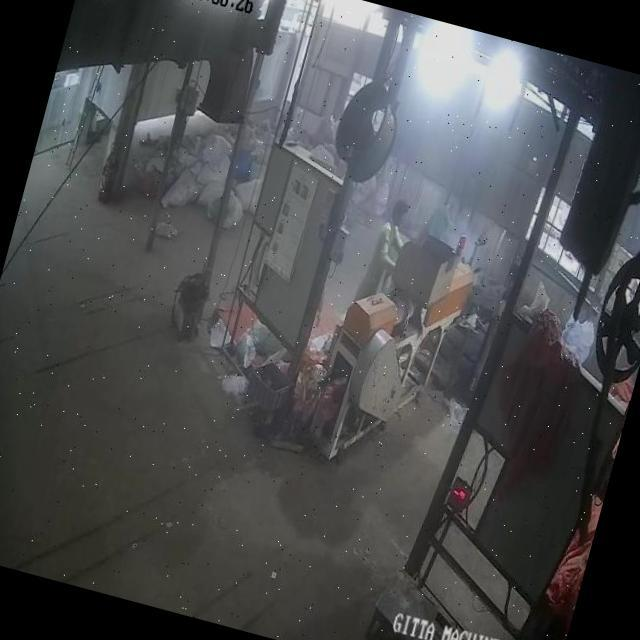person: (352, 186, 417, 318)
